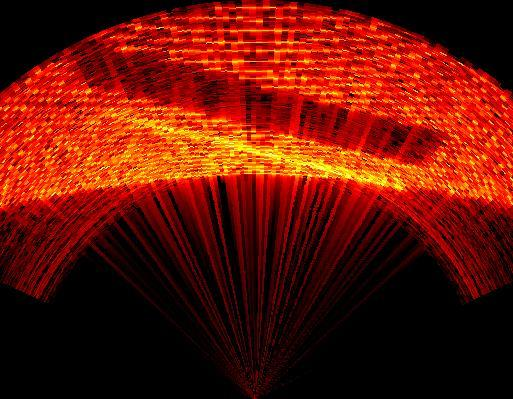pipe: (55, 36, 444, 168)
